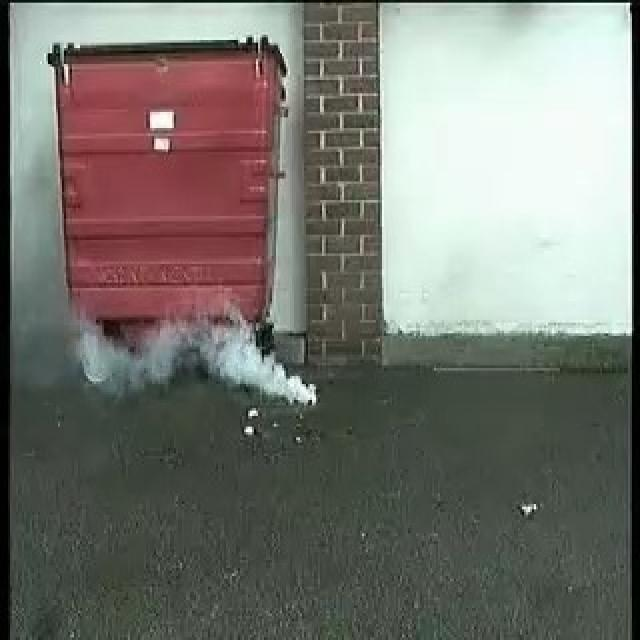smoke: (87, 307, 317, 408)
